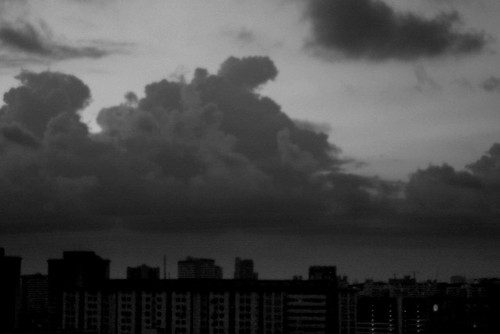building: (7, 256, 366, 334), (377, 287, 486, 334)
sky: (6, 2, 500, 244)
